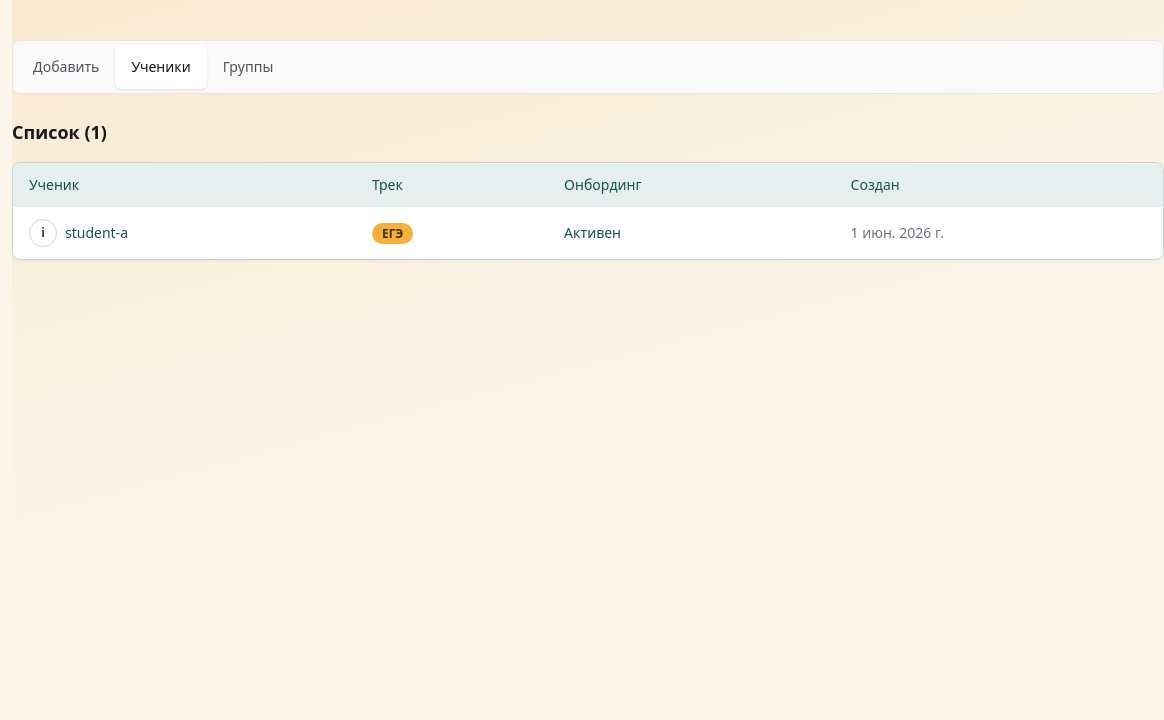
Test: StudentsHub › shows create form only on Добавить tab
This screenshot has width=1164, height=720.
Click the tab "Добавить". click: (66, 67)
box: left=17, top=45, right=115, bottom=89
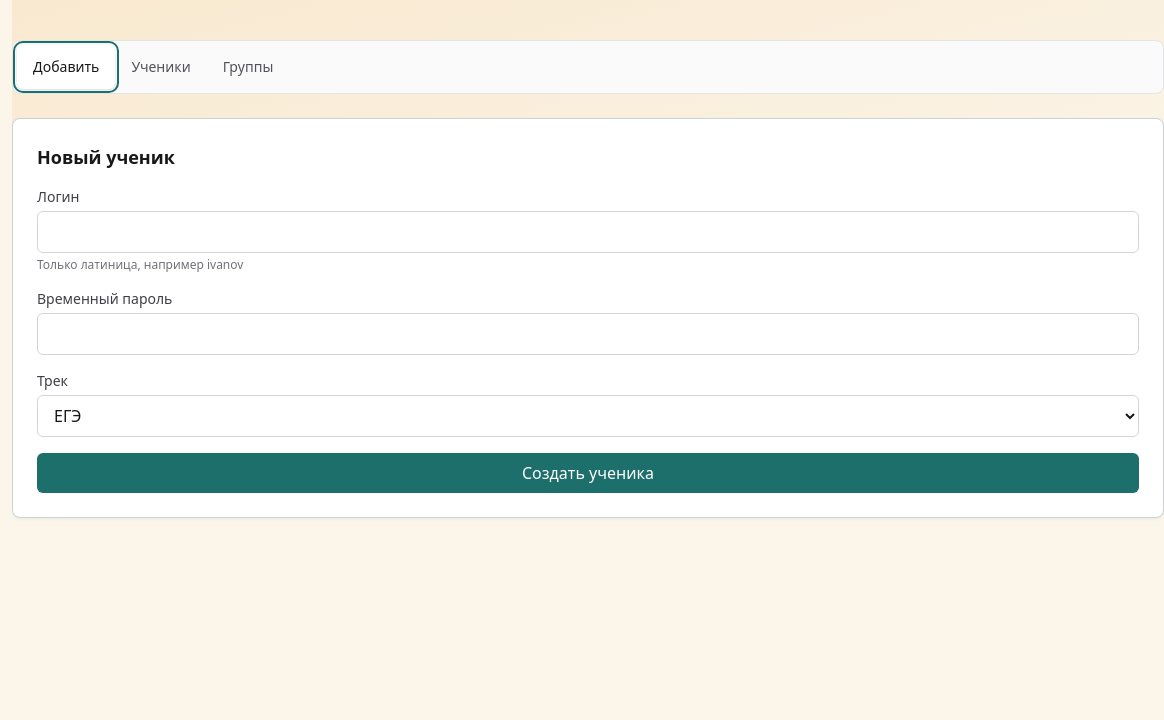
Now the heading "Новый ученик" is shown, box left=37, top=145, right=175, bottom=169
Now the heading "Список (1)" is gone
